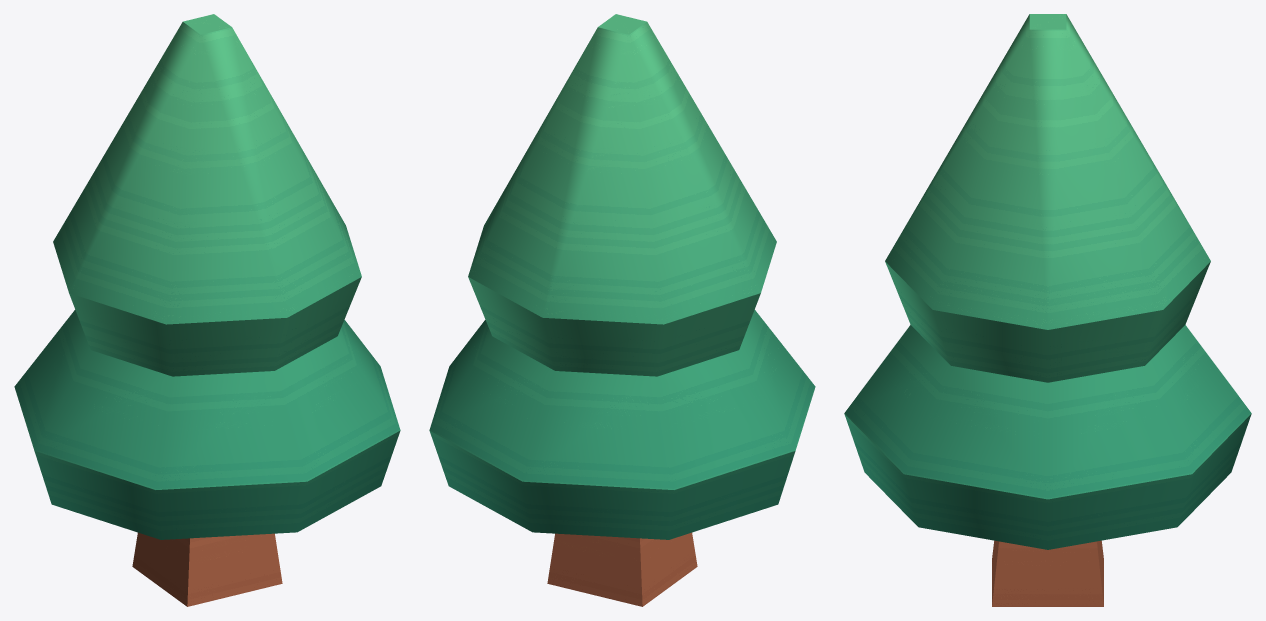
File: detail-tree-large.glb
3 views of the same model, side by side, from view 1: azimuth 30°, elevation 25°; view 2: azimuth 150°, elevation 25°; view 3: azimuth 270°, elevation 25° (orthographic).
Parts seen in each view (by area): view 1: detail-tree-large; view 2: detail-tree-large; view 3: detail-tree-large.
Part boxes in pixels (left/top/right/bottom): detail-tree-large: left=14, top=14, right=400, bottom=606; detail-tree-large: left=429, top=14, right=815, bottom=606; detail-tree-large: left=844, top=14, right=1251, bottom=606.
Size of the model in its own units: 0.5 by 0.76 by 0.5.
Materials: 1 (1 with a texture image).
